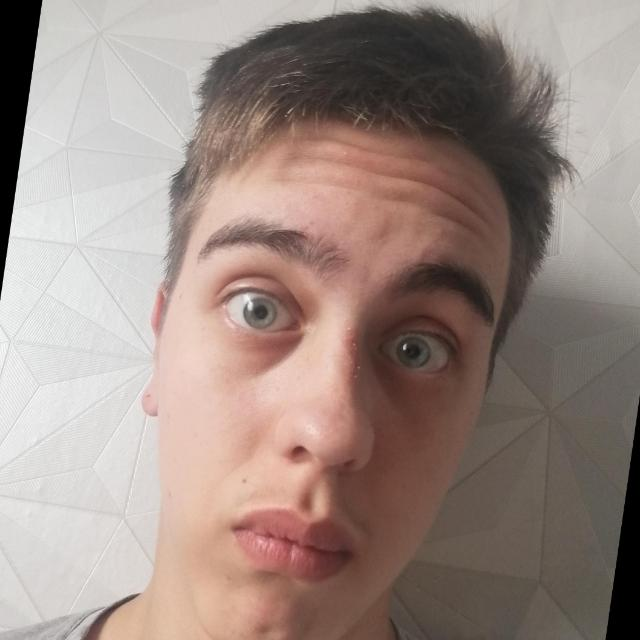Surprised: (117, 89, 565, 640)
